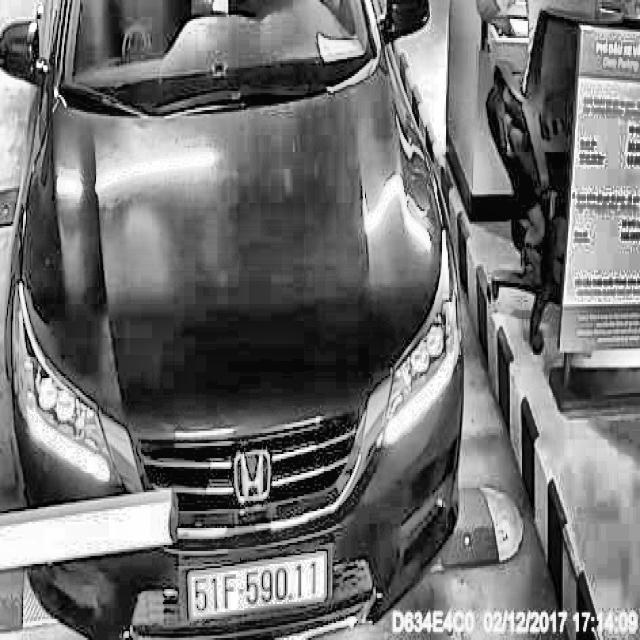plate: (185, 547, 331, 625)
